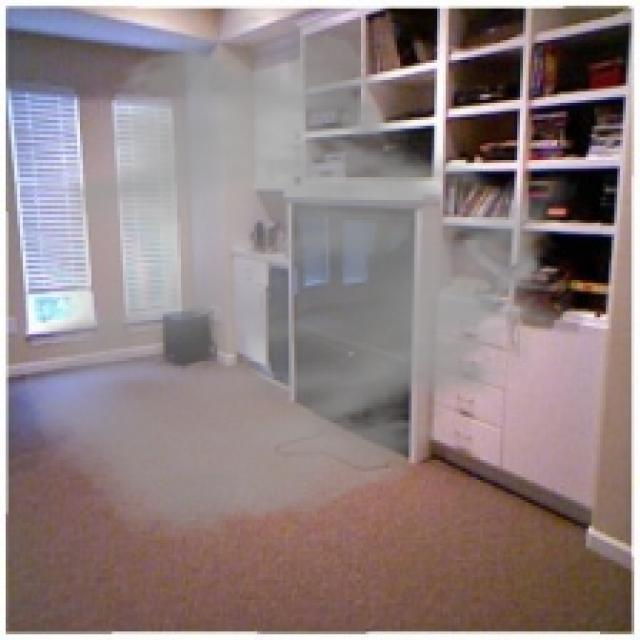Smoke: (20, 8, 580, 543)
